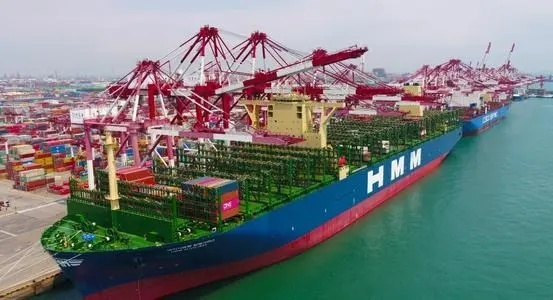Cargoship: (40, 101, 464, 287), (454, 89, 515, 137)
